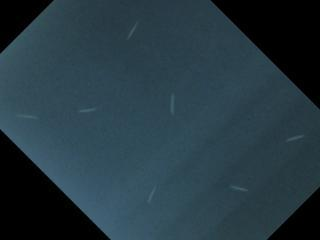scratch: (120, 15, 142, 42), (142, 180, 164, 205), (222, 181, 252, 199), (279, 130, 311, 146), (14, 110, 43, 125), (74, 103, 101, 117), (166, 90, 178, 117)
